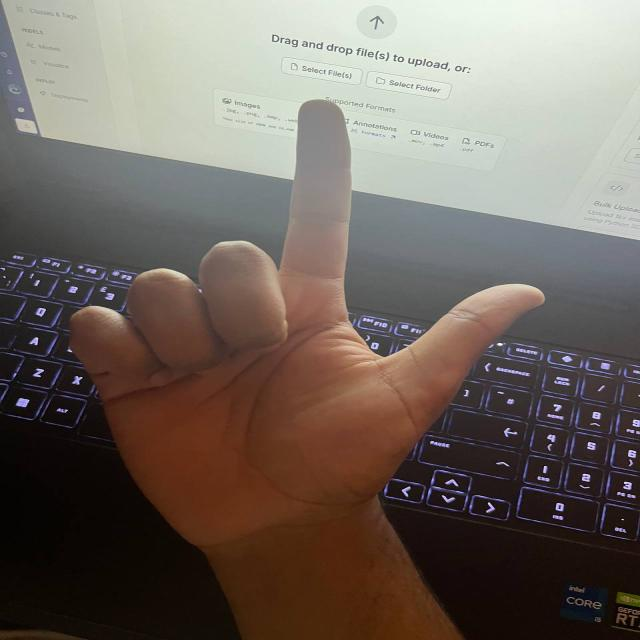hand thumb and index out: (71, 98, 538, 535)
